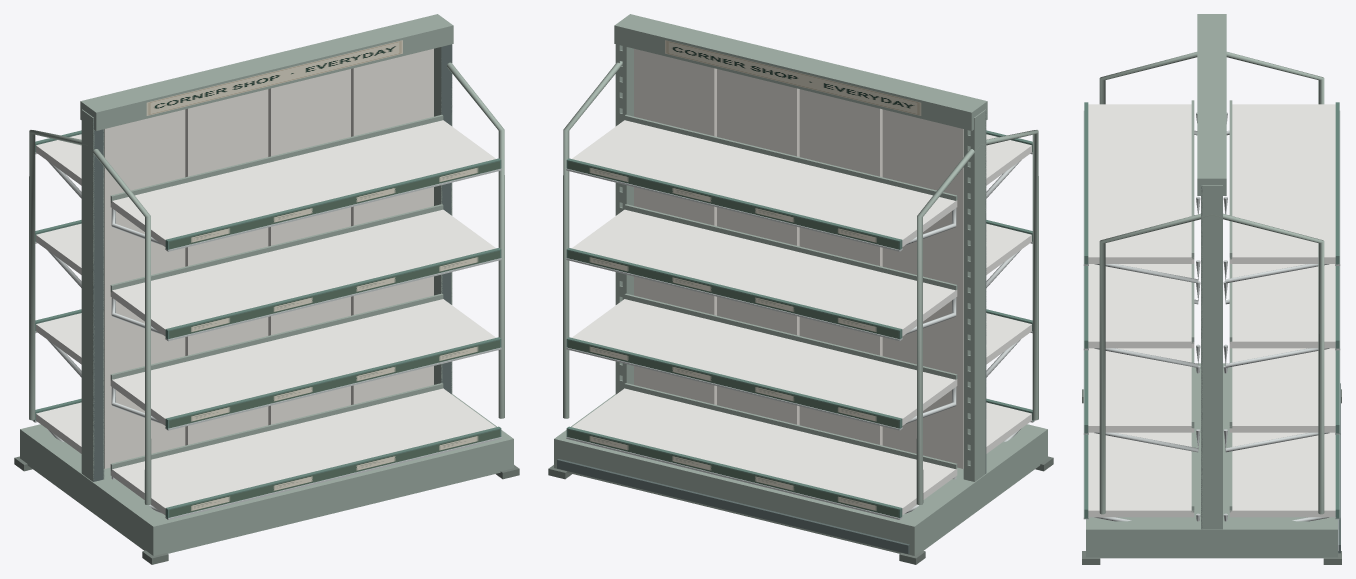
The model's file is gondola-low.glb.
3 views of the same model, side by side, from view 1: azimuth 30°, elevation 25°; view 2: azimuth 150°, elevation 25°; view 3: azimuth 270°, elevation 25° (orthographic). The views are drawn at different scales.
Visible parts, largest first — view 1: library-equipment-gondola-low-product-equipment-white, library-equipment-gondola-low-product-equipment-sage, library-equipment-gondola-low-product-equipment-cream, library-equipment-gondola-low-product-label-equipment-displa, library-equipment-gondola-low-product-equipment-forest, library-equipment-gondola-low-product-equipment-dark, library-equipment-gondola-low-product-equipment-steel, library-equipment-gondola-low-gondola-low-small-category-sig; view 2: library-equipment-gondola-low-product-equipment-white, library-equipment-gondola-low-product-equipment-sage, library-equipment-gondola-low-product-equipment-cream, library-equipment-gondola-low-product-label-equipment-displa, library-equipment-gondola-low-product-equipment-forest, library-equipment-gondola-low-product-equipment-steel, library-equipment-gondola-low-product-equipment-dark, library-equipment-gondola-low-gondola-low-small-category-sig; view 3: library-equipment-gondola-low-product-equipment-white, library-equipment-gondola-low-product-equipment-sage, library-equipment-gondola-low-product-equipment-steel, library-equipment-gondola-low-product-equipment-forest, library-equipment-gondola-low-product-equipment-dark, library-equipment-gondola-low-product-equipment-rubber.
Boxes of the visible parts, left/top/right/bottom form: library-equipment-gondola-low-product-equipment-white: left=36, top=120, right=495, bottom=515; library-equipment-gondola-low-product-equipment-sage: left=20, top=14, right=513, bottom=555; library-equipment-gondola-low-product-equipment-cream: left=104, top=48, right=433, bottom=468; library-equipment-gondola-low-product-label-equipment-displa: left=169, top=161, right=499, bottom=517; library-equipment-gondola-low-product-equipment-forest: left=34, top=130, right=501, bottom=518; library-equipment-gondola-low-product-equipment-dark: left=92, top=44, right=452, bottom=481; library-equipment-gondola-low-product-equipment-steel: left=32, top=152, right=501, bottom=519; library-equipment-gondola-low-gondola-low-small-category-sig: left=146, top=40, right=402, bottom=115; library-equipment-gondola-low-product-equipment-white: left=572, top=120, right=1031, bottom=515; library-equipment-gondola-low-product-equipment-sage: left=554, top=14, right=1047, bottom=555; library-equipment-gondola-low-product-equipment-cream: left=634, top=48, right=963, bottom=468; library-equipment-gondola-low-product-label-equipment-displa: left=568, top=161, right=898, bottom=517; library-equipment-gondola-low-product-equipment-forest: left=566, top=130, right=1033, bottom=517; library-equipment-gondola-low-product-equipment-steel: left=566, top=152, right=1035, bottom=519; library-equipment-gondola-low-product-equipment-dark: left=557, top=110, right=986, bottom=553; library-equipment-gondola-low-gondola-low-small-category-sig: left=665, top=40, right=921, bottom=115; library-equipment-gondola-low-product-equipment-white: left=1088, top=104, right=1335, bottom=517; library-equipment-gondola-low-product-equipment-sage: left=1086, top=14, right=1337, bottom=558; library-equipment-gondola-low-product-equipment-steel: left=1083, top=111, right=1340, bottom=521; library-equipment-gondola-low-product-equipment-forest: left=1084, top=102, right=1339, bottom=518; library-equipment-gondola-low-product-equipment-dark: left=1201, top=185, right=1340, bottom=553; library-equipment-gondola-low-product-equipment-rubber: left=1082, top=389, right=1341, bottom=564.
Size of the model in its own units: 1.42 by 1.5 by 0.92.
Materials: 10 (3 with a texture image).
